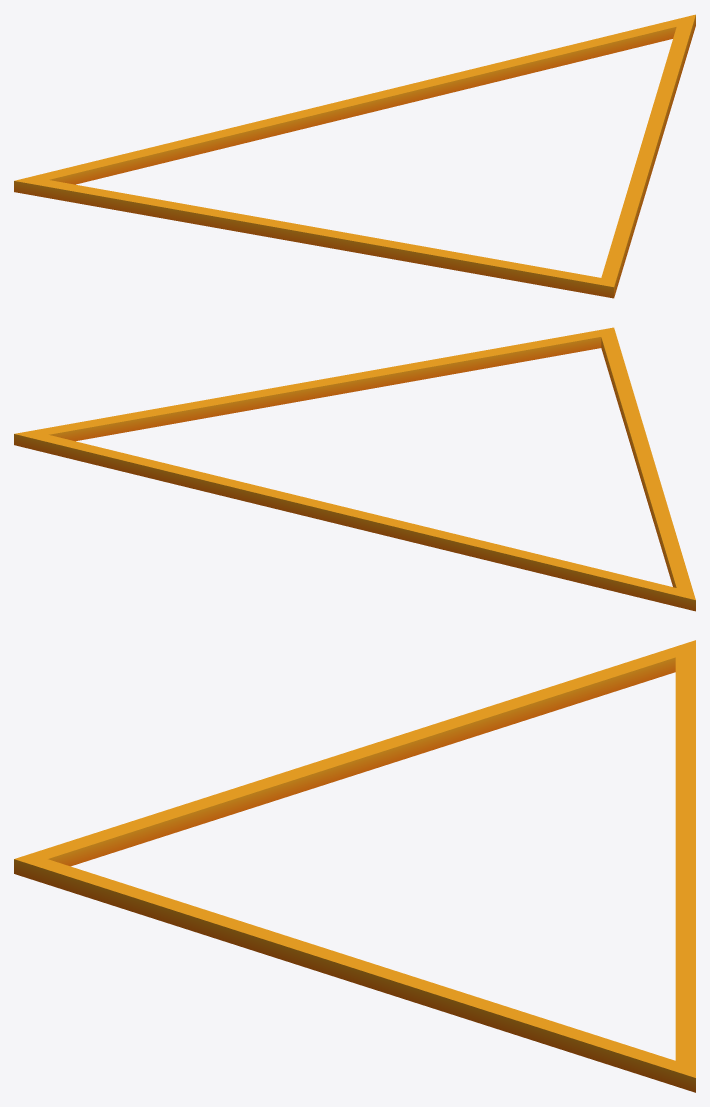
Rendered from Gound_Socket_05.fbx.
The picture shows the model from 3 angles, top to bottom: view 1: azimuth 30°, elevation 25°; view 2: azimuth 150°, elevation 25°; view 3: azimuth 270°, elevation 25°; orthographic projection. The views are drawn at different scales.
Visible parts, largest first — view 1: Obstacle_Gound_Socket_05; view 2: Obstacle_Gound_Socket_05; view 3: Obstacle_Gound_Socket_05.
Part boxes in pixels (x1,y1,x2,y2): Obstacle_Gound_Socket_05: [14, 14, 695, 298]; Obstacle_Gound_Socket_05: [14, 327, 695, 611]; Obstacle_Gound_Socket_05: [14, 640, 695, 1092].
Size of the model in its own units: 318 by 5 by 209.
Materials: 1 (1 with a texture image).
